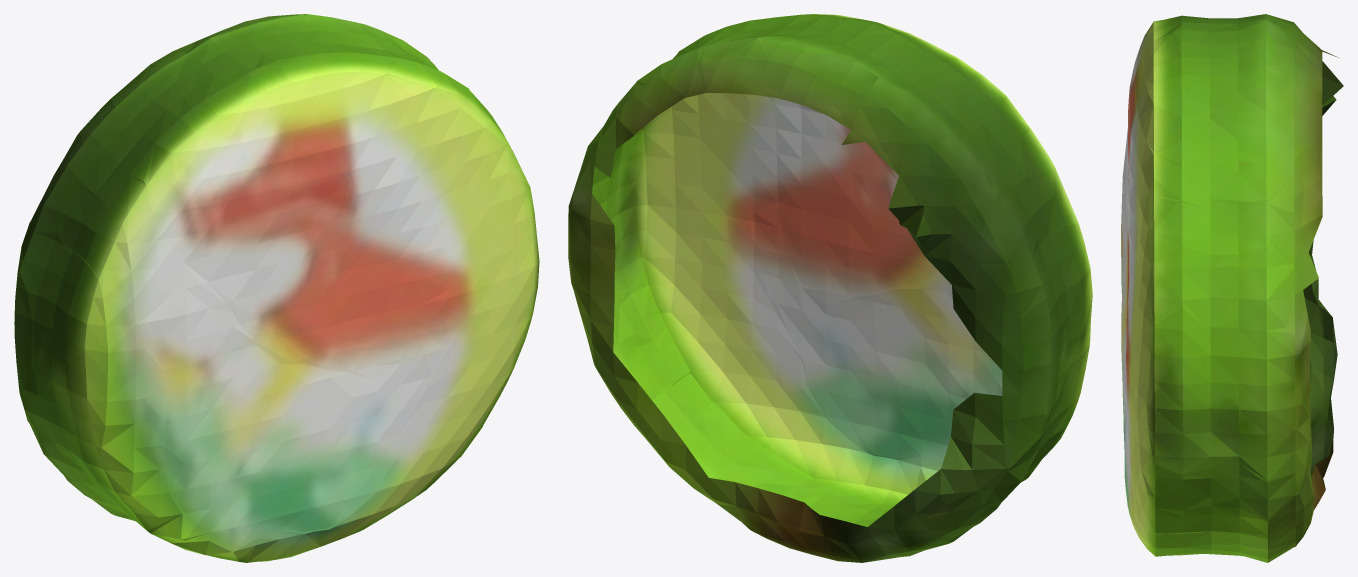
Rendered from bottle64_lid.dae.
The picture shows the model from 3 angles, left to right: view 1: azimuth 30°, elevation 25°; view 2: azimuth 150°, elevation 25°; view 3: azimuth 270°, elevation 25°; orthographic projection.
Visible parts, largest first — view 1: node; view 2: node; view 3: node.
Part boxes in pixels (x1,y1,x2,y2): node: (14,14,539,562); node: (568,14,1092,562); node: (1121,14,1343,562).
Bounding box in the file's own units: 0.0596 × 0.0598 × 0.0238.
Materials: 1 (1 with a texture image).
